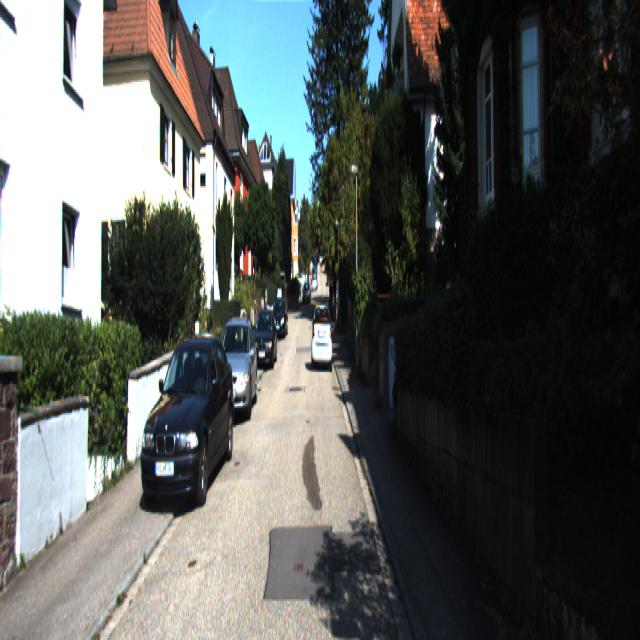Car: (138, 330, 238, 517), (214, 313, 260, 422), (251, 308, 279, 370), (311, 301, 333, 373), (272, 297, 288, 340)
